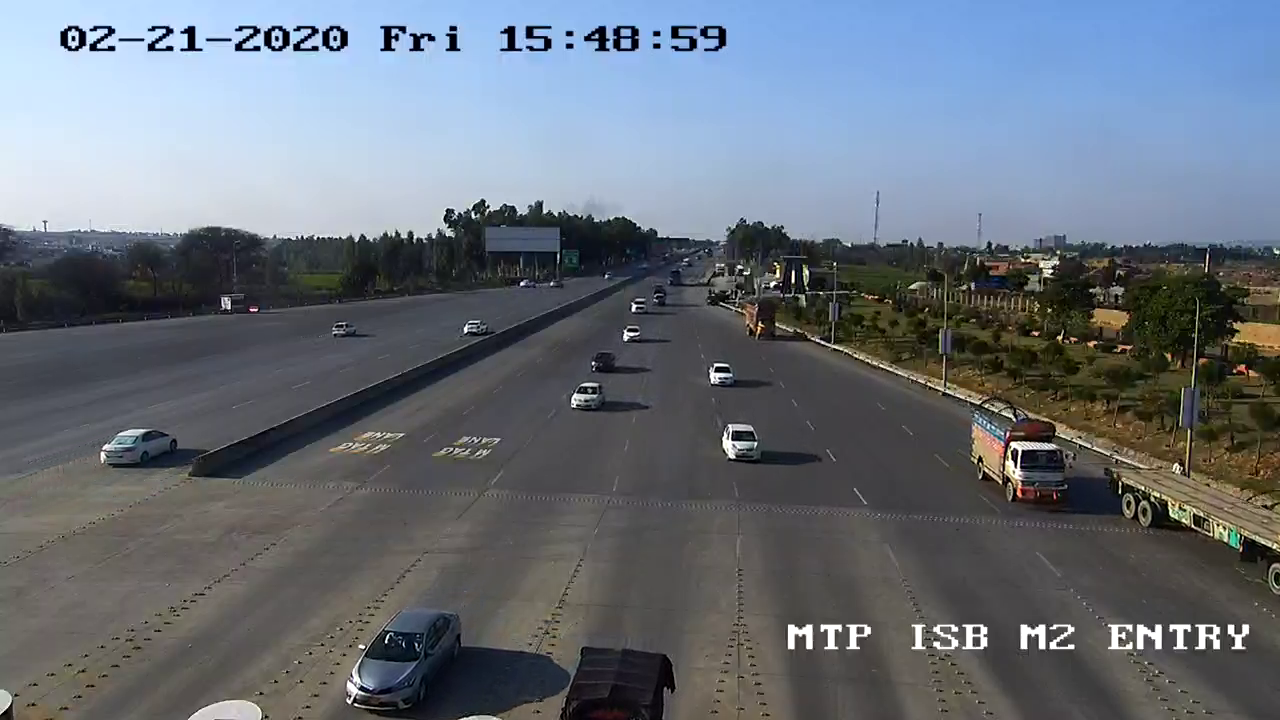f1: (337, 598, 468, 720), (712, 419, 767, 472)
f5: (965, 388, 1080, 515), (563, 372, 611, 418)
